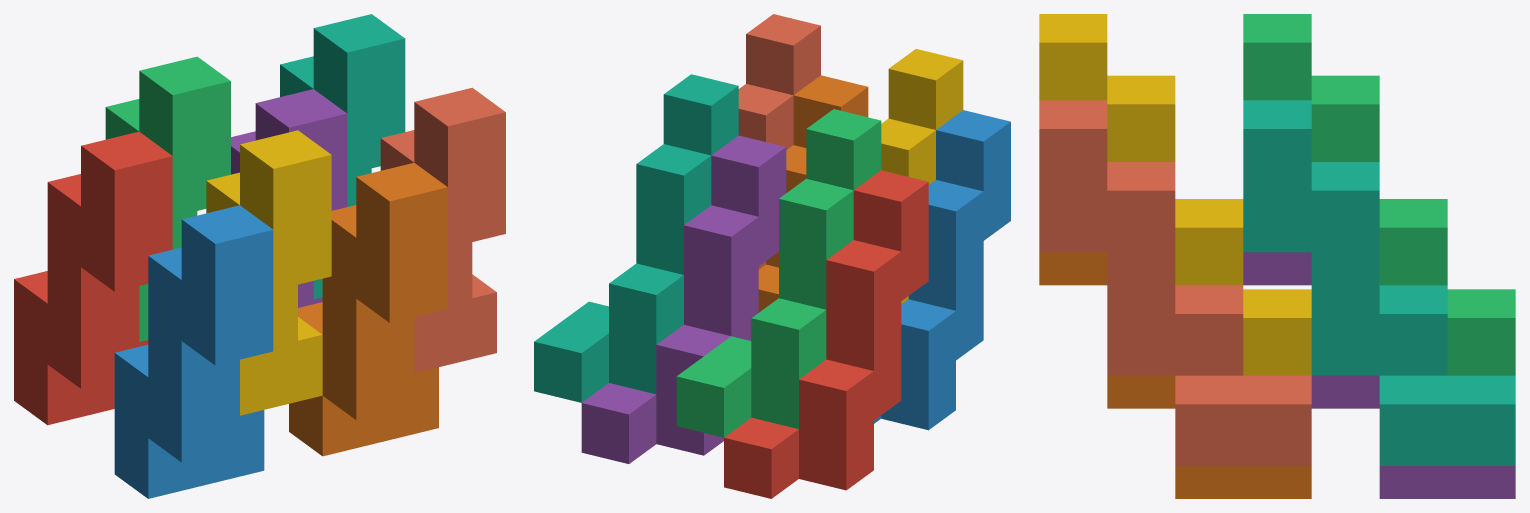
Rendered from tiling.obj.
The picture shows the model from 3 angles, left to right: view 1: azimuth 30°, elevation 25°; view 2: azimuth 150°, elevation 25°; view 3: azimuth 270°, elevation 25°; orthographic projection. The views are drawn at different scales.
Visible parts, largest first — view 1: copy_1_domain_2, copy_1_domain_6, copy_1_domain_1, copy_1_domain_4, copy_1_domain_8, copy_1_domain_3, copy_1_domain_7, copy_1_domain_5; view 2: copy_1_domain_1, copy_1_domain_7, copy_1_domain_3, copy_1_domain_5, copy_1_domain_2, copy_1_domain_4, copy_1_domain_8, copy_1_domain_6; view 3: copy_1_domain_7, copy_1_domain_8, copy_1_domain_3, copy_1_domain_4, copy_1_domain_5, copy_1_domain_6.
Boxes of the visible parts, x1,y1,x2,y2 form: copy_1_domain_2: (114,205,273,498); copy_1_domain_6: (289,163,447,456); copy_1_domain_1: (14,131,172,425); copy_1_domain_4: (206,130,331,415); copy_1_domain_8: (380,87,505,372); copy_1_domain_3: (105,56,230,341); copy_1_domain_7: (280,14,405,299); copy_1_domain_5: (231,89,347,307); copy_1_domain_1: (724,170,928,498); copy_1_domain_7: (534,74,738,402); copy_1_domain_3: (676,109,881,437); copy_1_domain_5: (581,135,786,463); copy_1_domain_2: (874,110,1010,430); copy_1_domain_4: (881,49,963,304); copy_1_domain_8: (738,14,820,269); copy_1_domain_6: (758,75,868,312); copy_1_domain_7: (1243,100,1515,465); copy_1_domain_8: (1039,100,1311,465); copy_1_domain_3: (1243,14,1515,375); copy_1_domain_4: (1039,14,1311,375); copy_1_domain_5: (1243,252,1515,498); copy_1_domain_6: (1039,252,1311,498).
Size of the model in its own units: 6 by 6 by 7.
